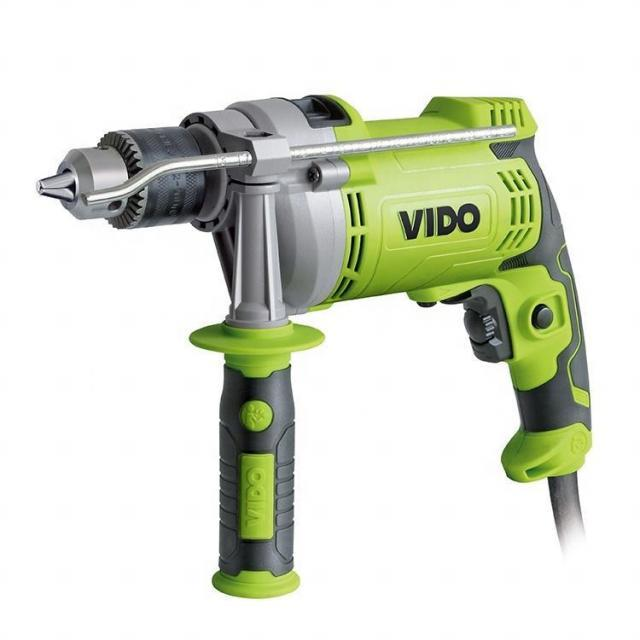drill: (35, 94, 592, 600)
